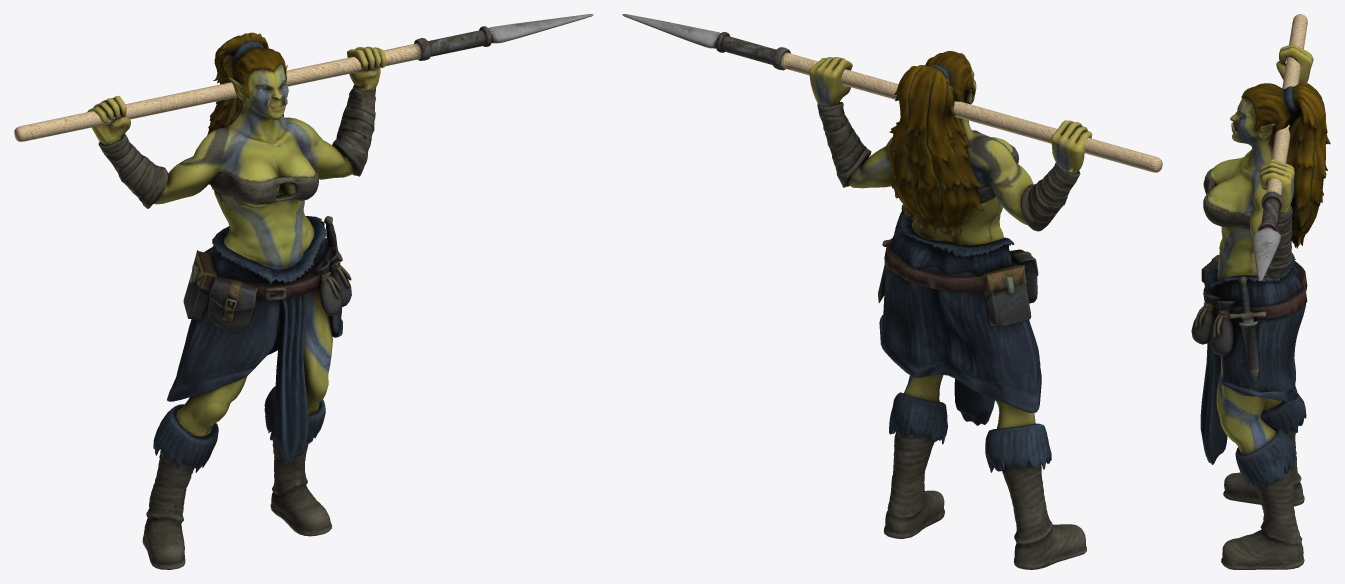
File: MZ4250 - Half Orc Female Barbarian_blue_spear.glb
The picture shows the model from 3 angles, left to right: view 1: azimuth 30°, elevation 25°; view 2: azimuth 150°, elevation 25°; view 3: azimuth 270°, elevation 25°; orthographic projection. The views are drawn at different scales.
Visible parts, largest first — view 1: Body.002; view 2: Body.002; view 3: Body.002.
Boxes of the visible parts, box(x1,y1,x2,y2) form: Body.002: box(14, 14, 593, 569); Body.002: box(622, 14, 1162, 569); Body.002: box(1191, 14, 1330, 569).
Bounding box in the file's own units: 49.66 × 40.82 × 11.15.
2 materials, 2 textured.
